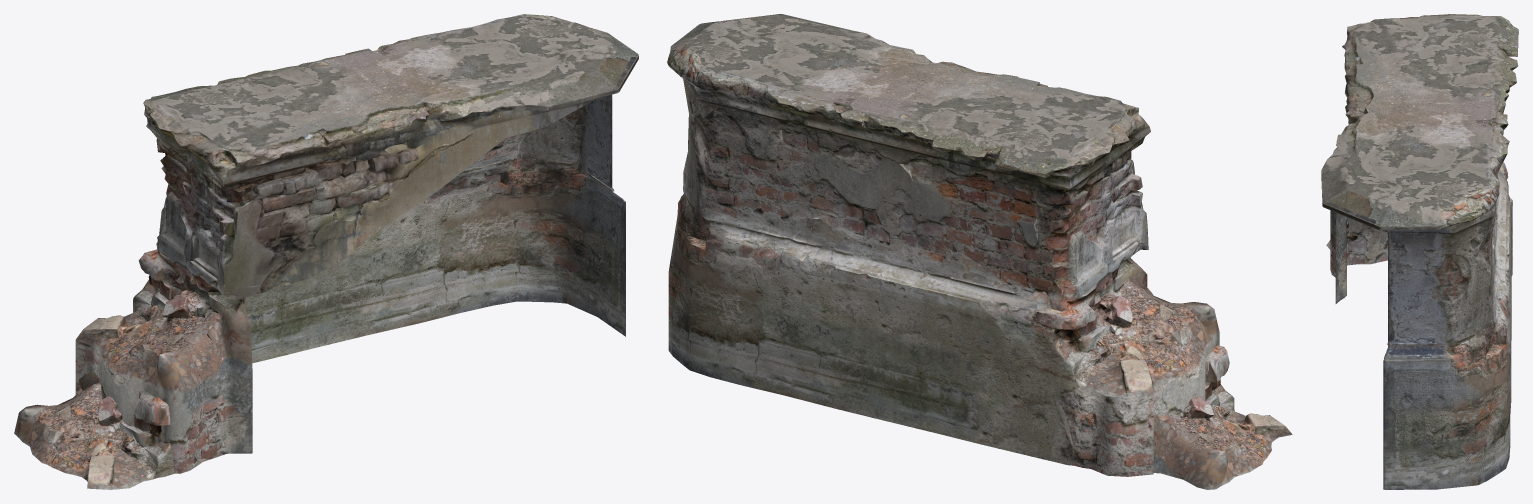
The model's file is SM_ChapelWall_06_04.fbx.
3 renders of one model, left to right at view 1: azimuth 30°, elevation 25°; view 2: azimuth 150°, elevation 25°; view 3: azimuth 270°, elevation 25°, orthographic. The views are drawn at different scales.
Visible parts, largest first — view 1: sm_ChapelWall_06_04_LOD0; view 2: sm_ChapelWall_06_04_LOD0; view 3: sm_ChapelWall_06_04_LOD0.
Part boxes in pixels (<box>): sm_ChapelWall_06_04_LOD0: <box>14,14,638,489</box>; sm_ChapelWall_06_04_LOD0: <box>667,14,1292,489</box>; sm_ChapelWall_06_04_LOD0: <box>1321,14,1518,489</box>.
Size of the model in its own units: 129 by 414 by 203.
